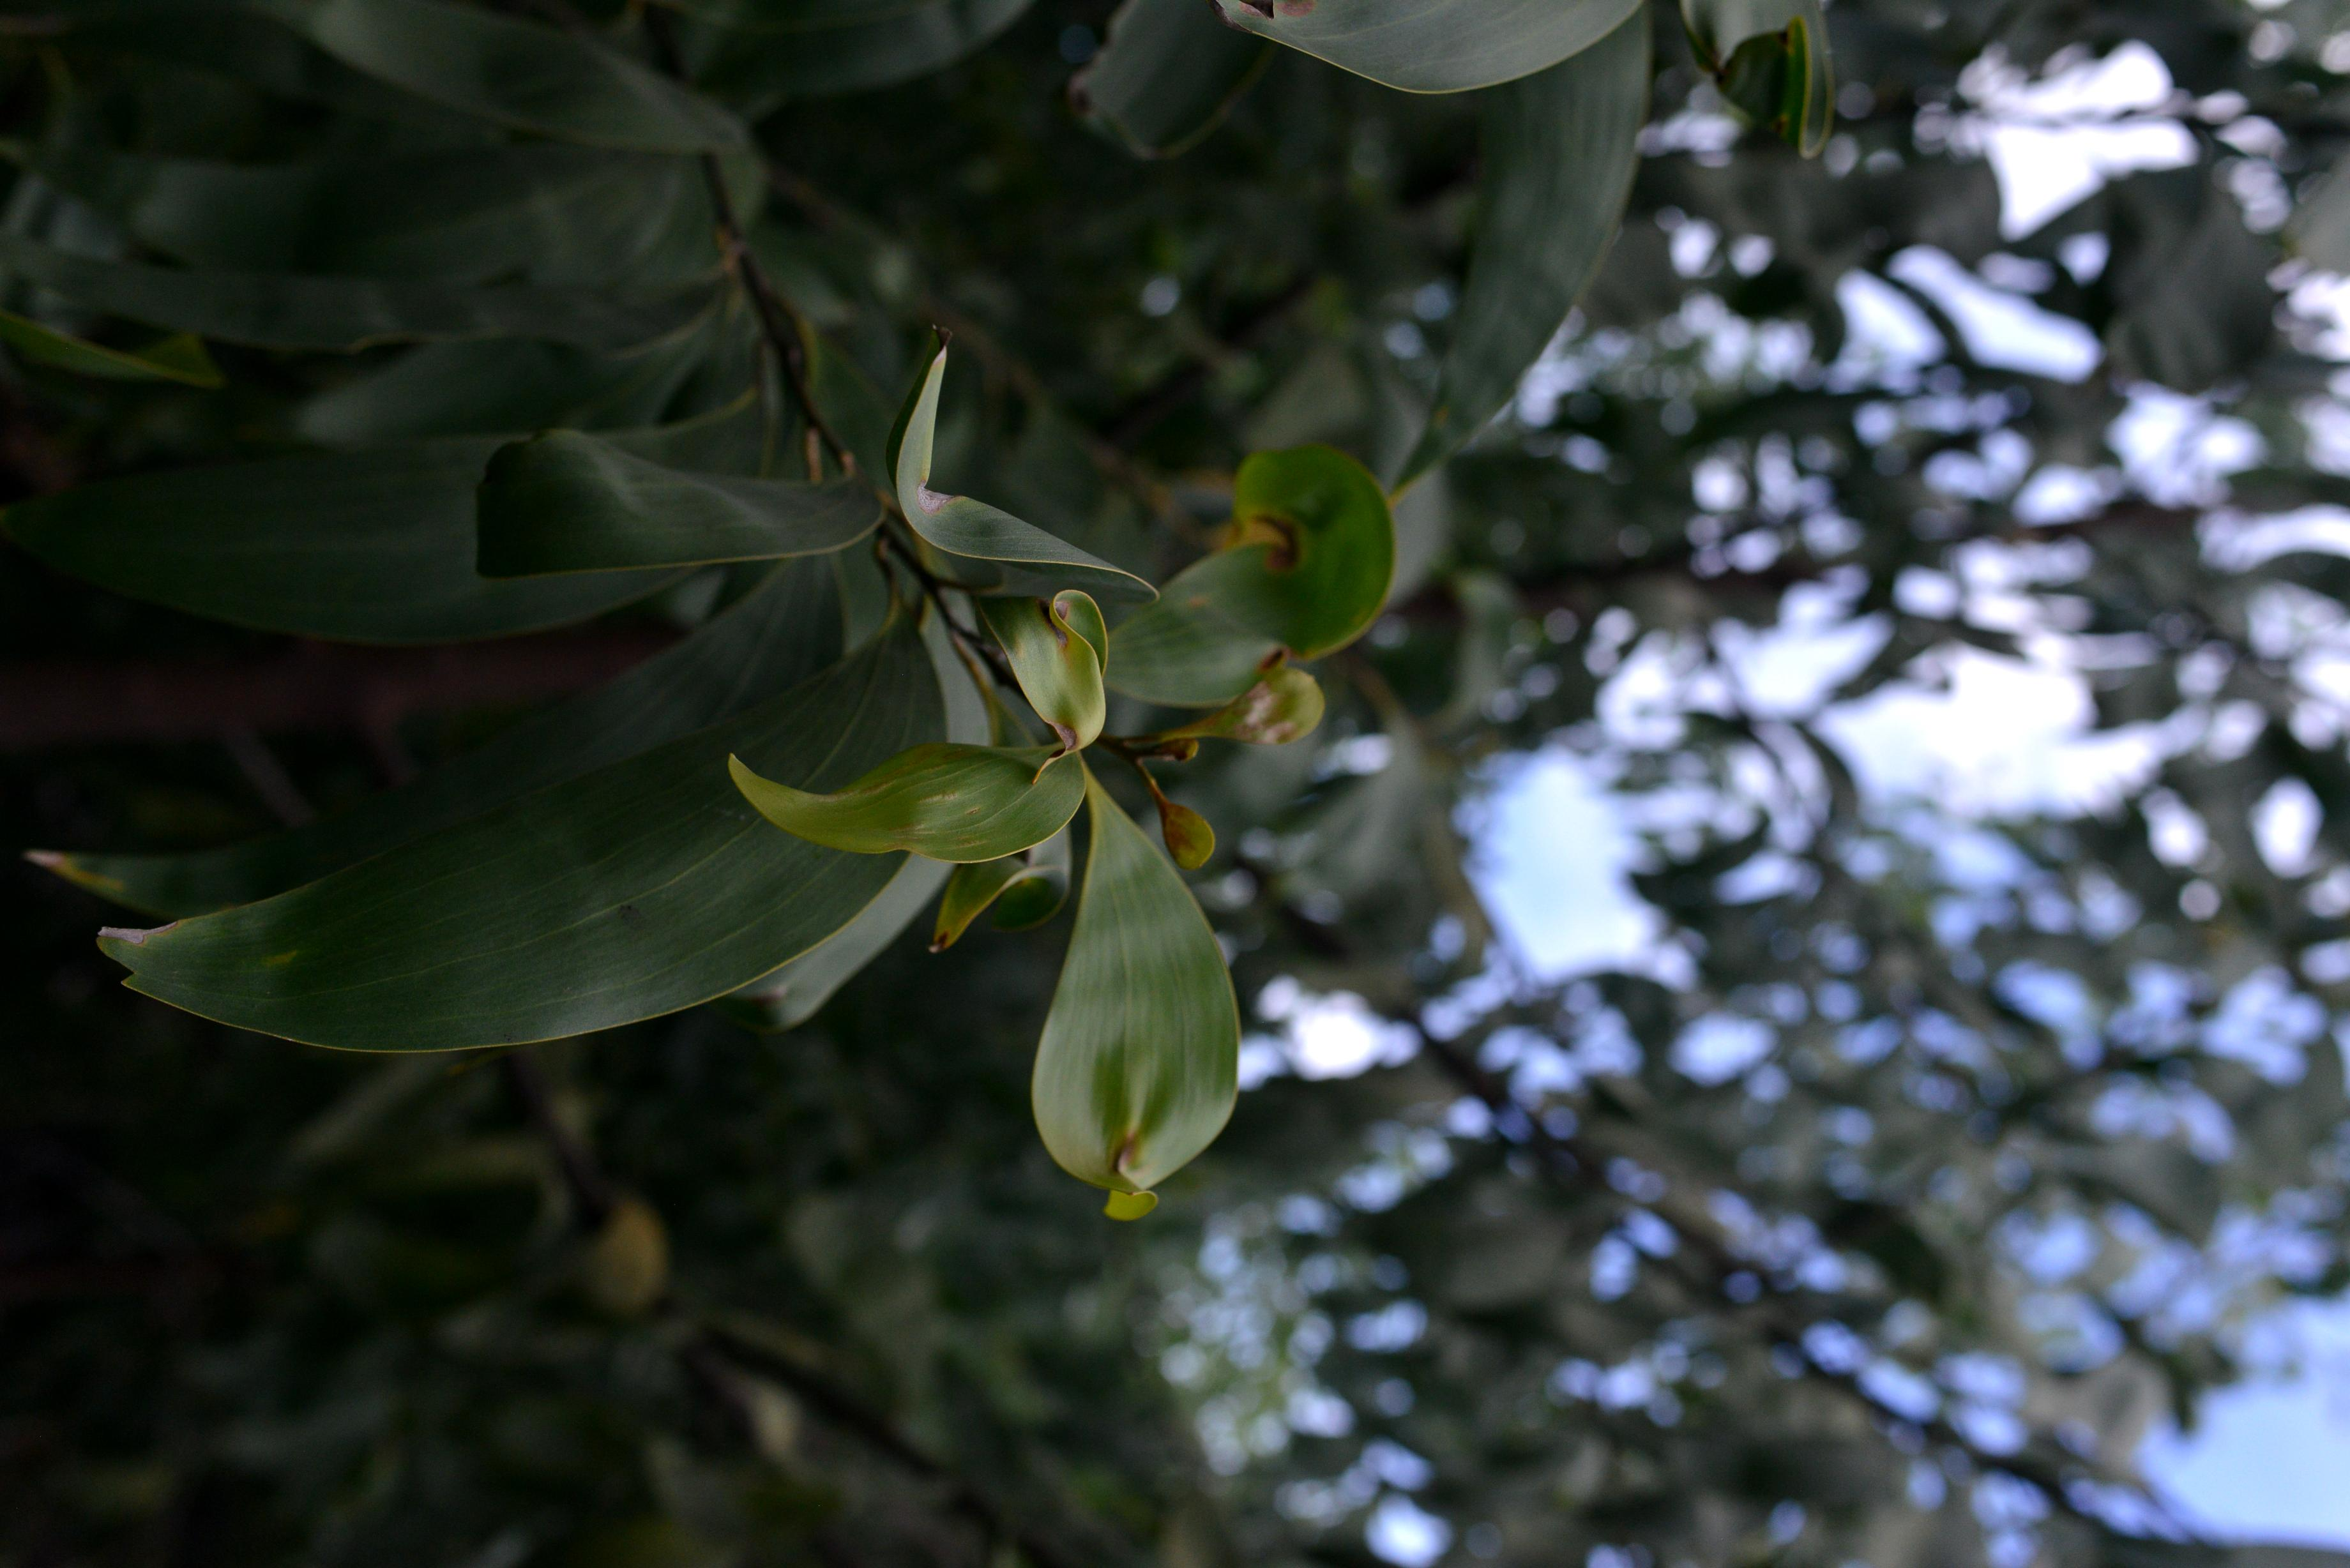Pasalora: (1038, 787, 1242, 1225), (1102, 437, 1402, 703), (712, 738, 1080, 863), (1661, 0, 1843, 163), (962, 588, 1092, 796), (917, 829, 1062, 980), (1108, 667, 1328, 751)
